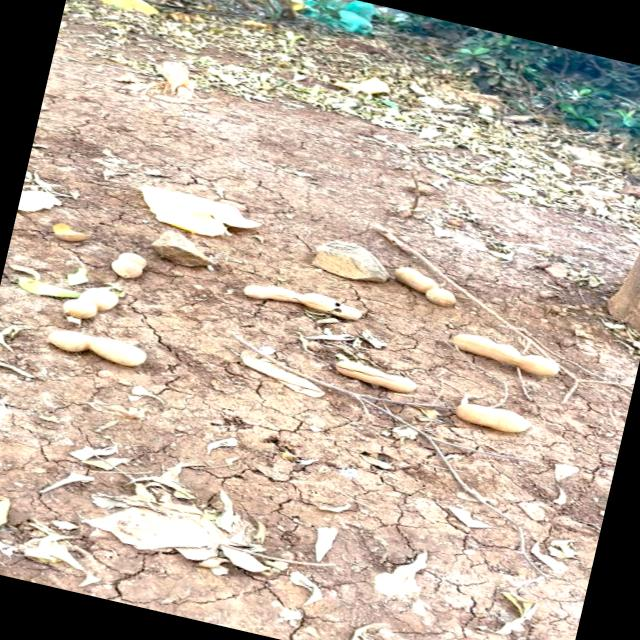tamarind: (442, 325, 577, 384), (240, 276, 372, 330), (38, 320, 160, 372), (458, 392, 540, 451), (386, 264, 469, 312), (332, 354, 422, 395), (62, 278, 130, 329), (110, 248, 152, 281)
